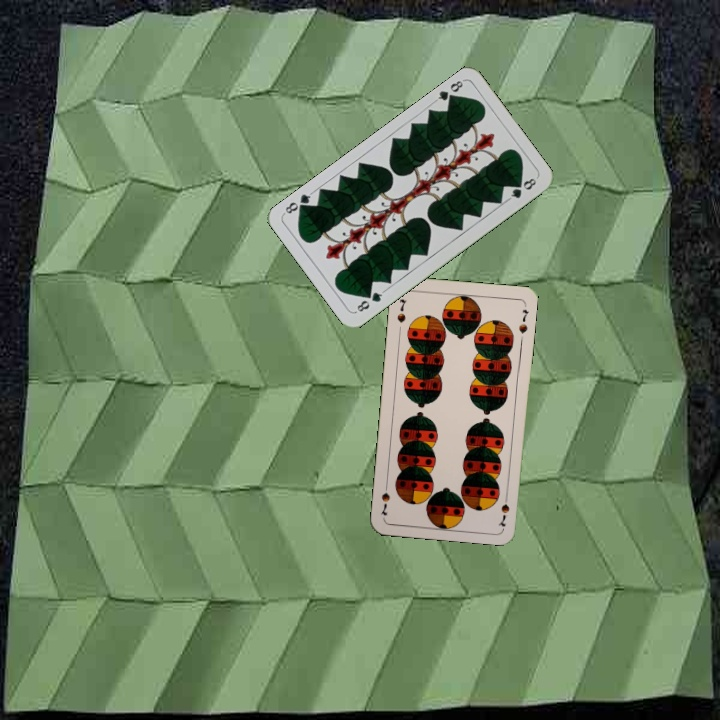G8: (431, 76, 466, 106), (352, 286, 387, 315)
S7: (495, 489, 512, 529), (393, 295, 409, 325)
